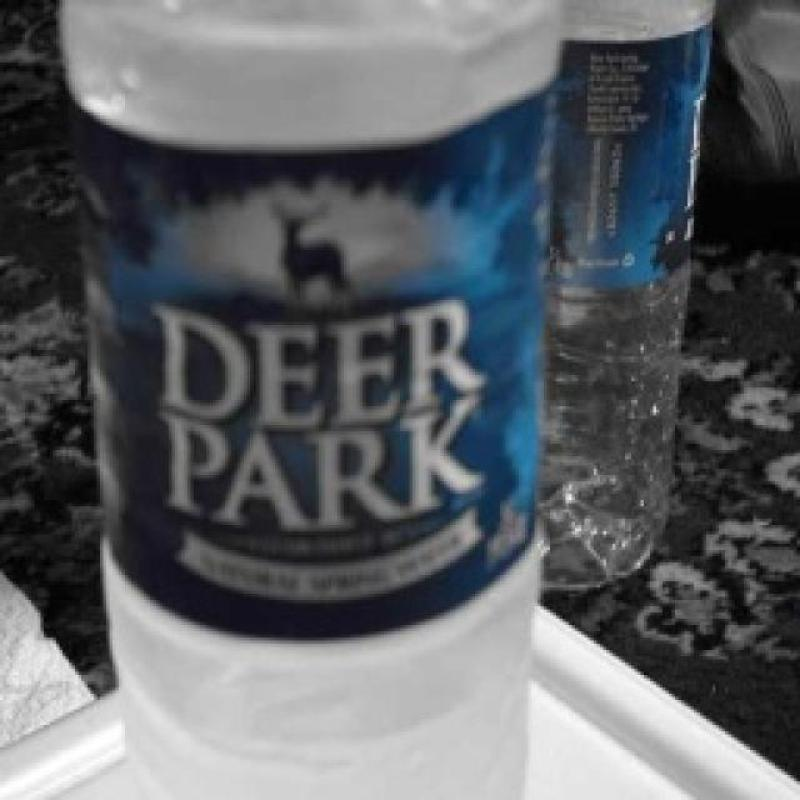botella: (55, 0, 564, 800), (541, 0, 714, 590)
